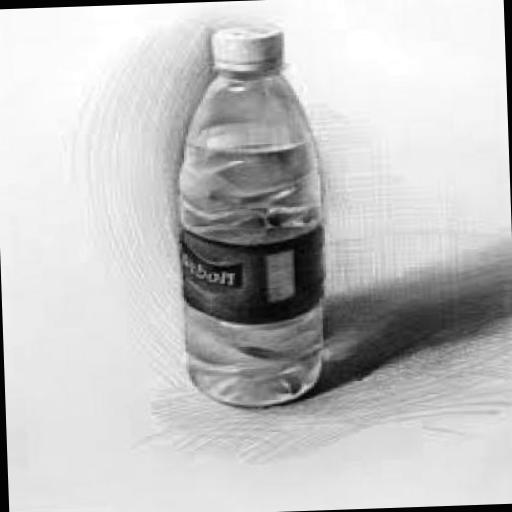plastic: (166, 22, 322, 408), (174, 218, 322, 325), (205, 23, 282, 74)
